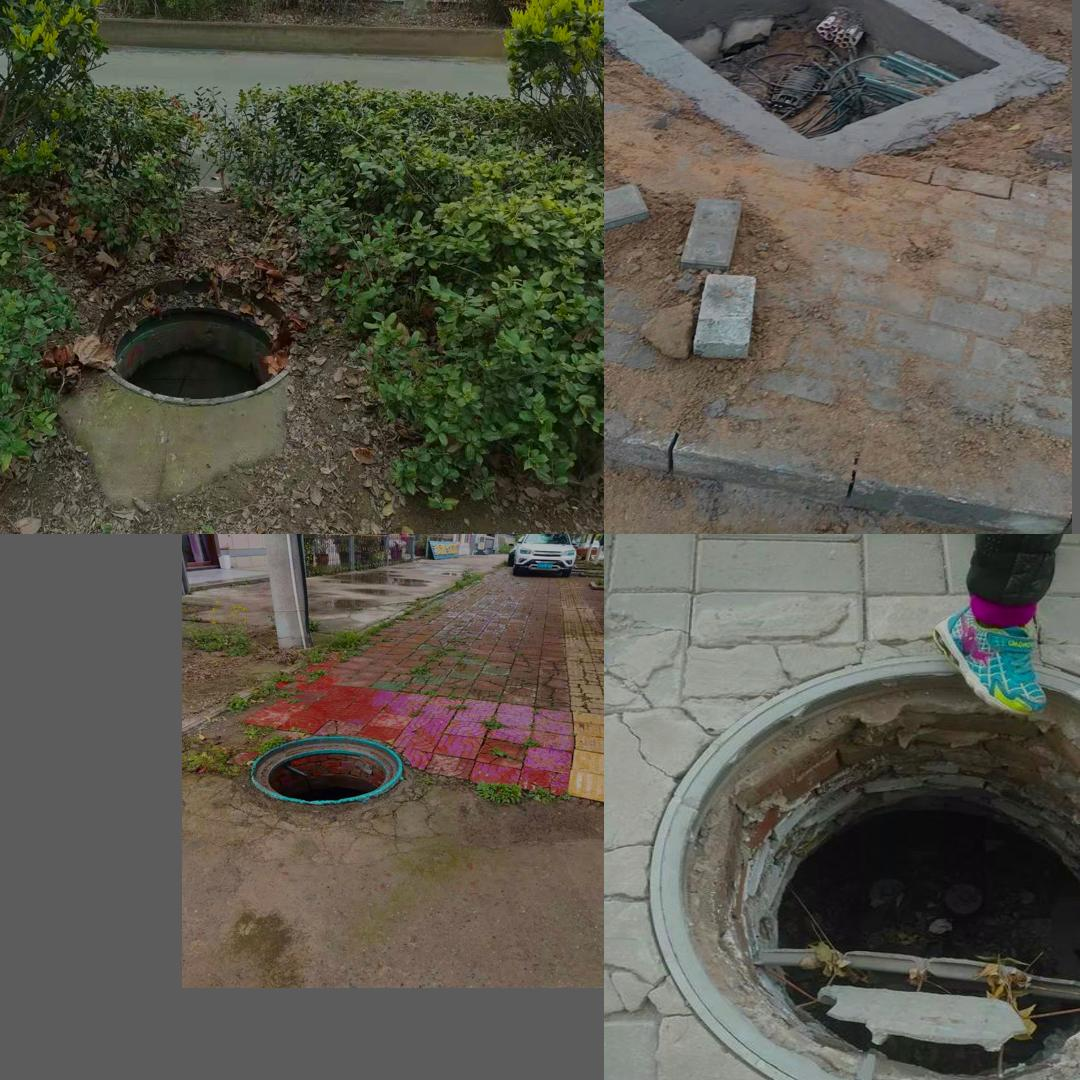lose: (638, 653, 1080, 1080), (619, 0, 1052, 141), (98, 274, 295, 405), (249, 736, 401, 803)
